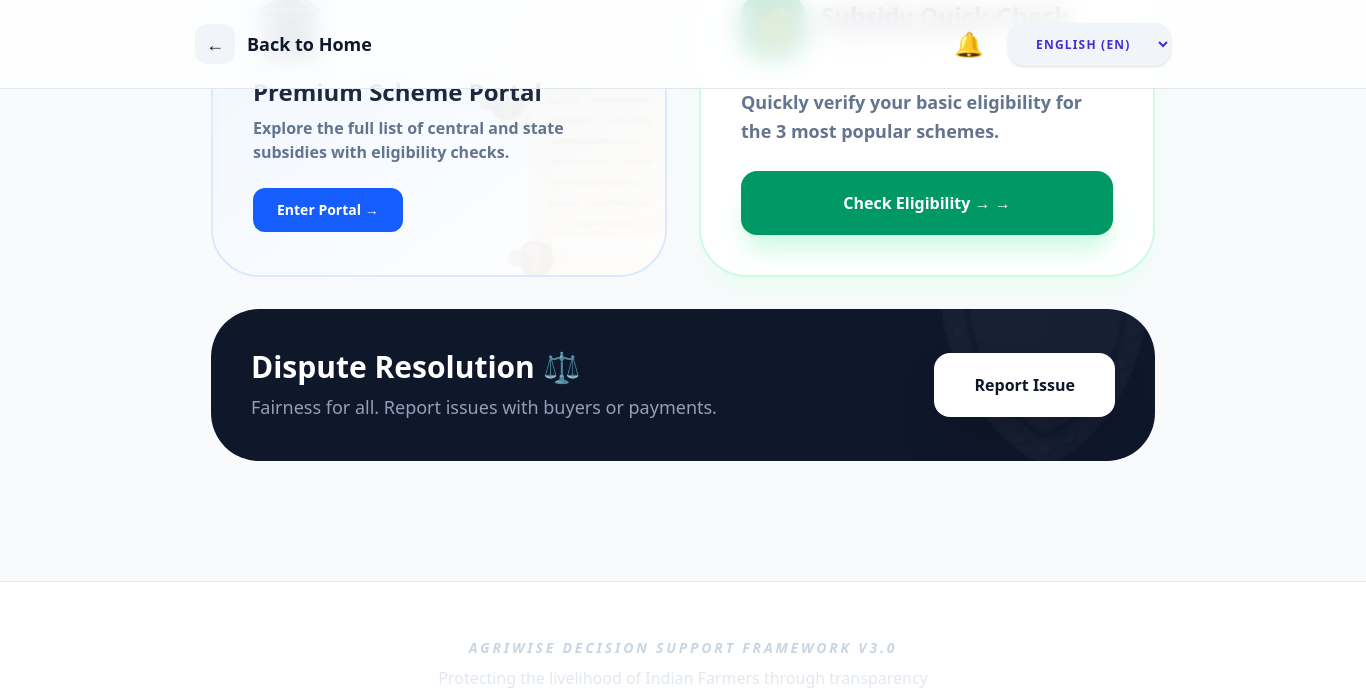
Support Component › opens Dispute form when "Report Issue" is clicked
(page scrolled)
Note: Use getByRole to be specific to the button
Step 1. Click the button "Report Issue" → (1025, 384), box [934,352,1115,416]
(page scrolled)
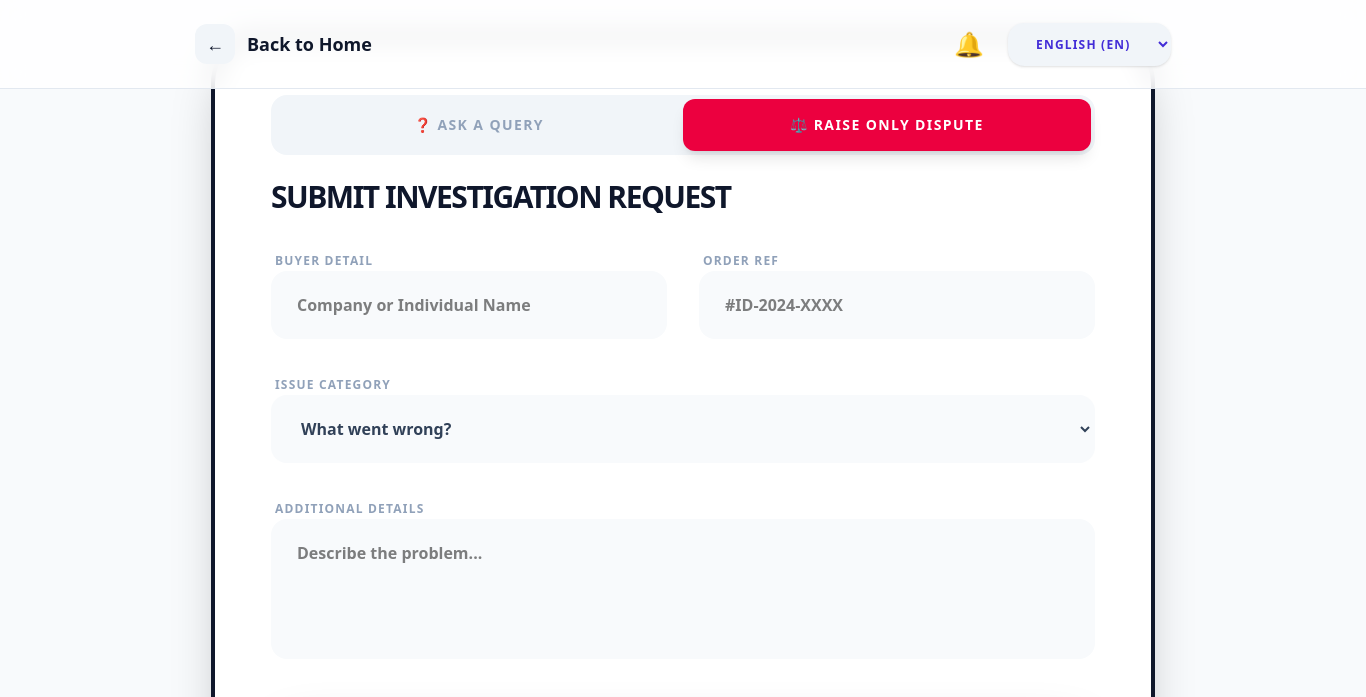
Expected: the text "Issue Category" is shown, [275,376,391,392]
